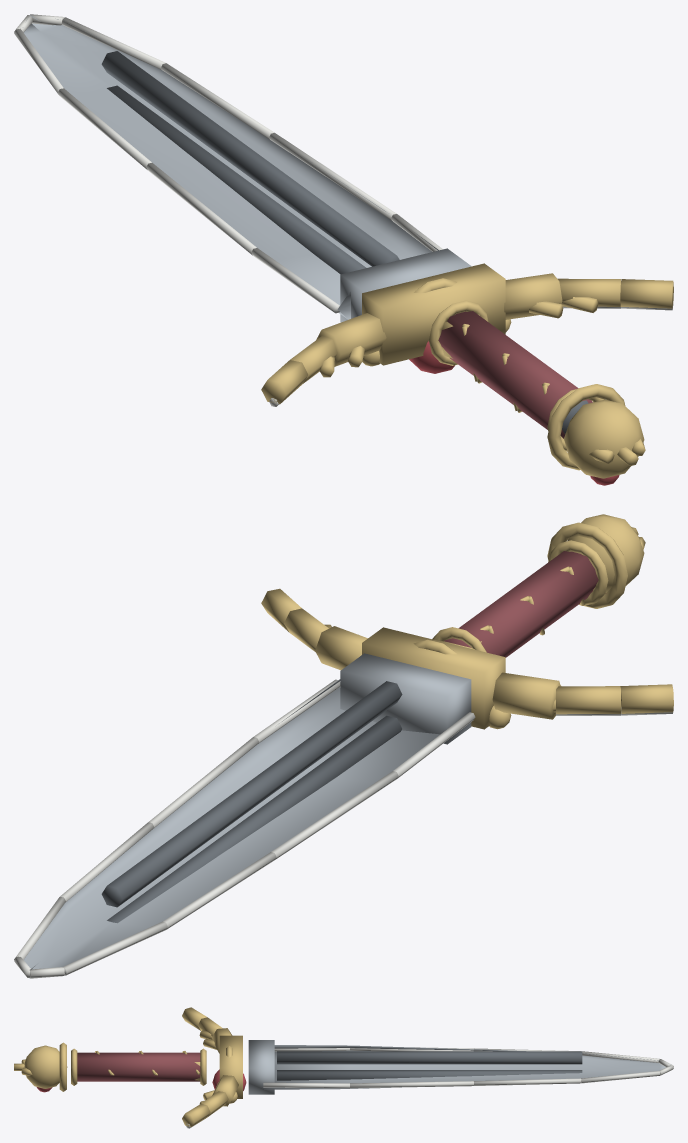
The picture shows the model from 3 angles, top to bottom: view 1: azimuth 30°, elevation 25°; view 2: azimuth 150°, elevation 25°; view 3: azimuth 270°, elevation 25°; orthographic projection. The views are drawn at different scales.
Parts seen in each view (by area): view 1: gold, steel, black, edge, wrap, gem; view 2: steel, gold, black, edge, wrap; view 3: steel, black, gold, edge, wrap.
Boxes of the visible parts, x1,y1,x2,y2 form: gold: (261, 263, 673, 478); steel: (24, 14, 471, 322); black: (101, 51, 588, 433); edge: (14, 14, 673, 406); wrap: (438, 311, 592, 438); gem: (409, 341, 619, 485); steel: (24, 653, 471, 978); gold: (261, 514, 673, 729); black: (101, 681, 402, 923); edge: (14, 679, 672, 978); wrap: (444, 551, 598, 657); steel: (248, 1040, 671, 1094); black: (277, 1051, 582, 1080); gold: (14, 1007, 242, 1127); edge: (186, 1022, 673, 1128); wrap: (77, 1052, 200, 1081).
Bounding box in the file's own units: 2.9 × 0.6509 × 7.35.
